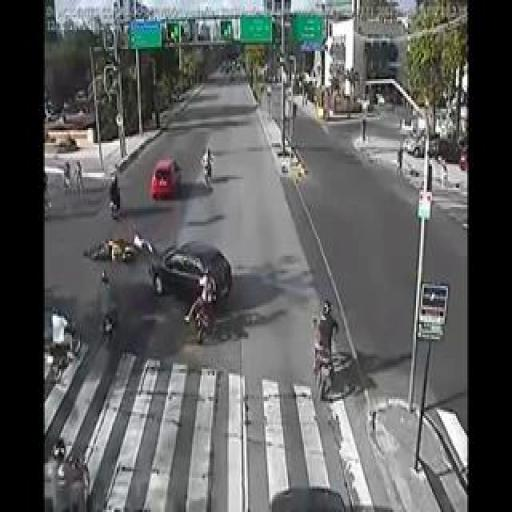Car: (156, 242, 229, 302), (151, 158, 180, 200)
Major Accident: (84, 229, 232, 301)
Motor: (45, 292, 113, 399), (49, 439, 91, 512), (311, 302, 338, 392), (89, 233, 152, 267), (191, 270, 217, 346), (99, 273, 118, 338), (109, 176, 120, 218), (201, 149, 213, 184), (74, 160, 85, 192), (63, 161, 72, 190)
